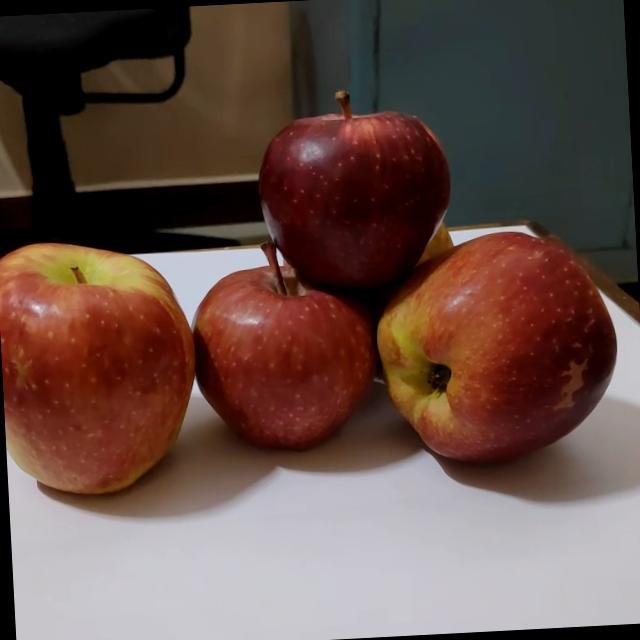apple: (364, 219, 630, 472), (0, 227, 203, 505), (244, 74, 460, 294), (184, 232, 388, 453), (398, 206, 460, 279)
